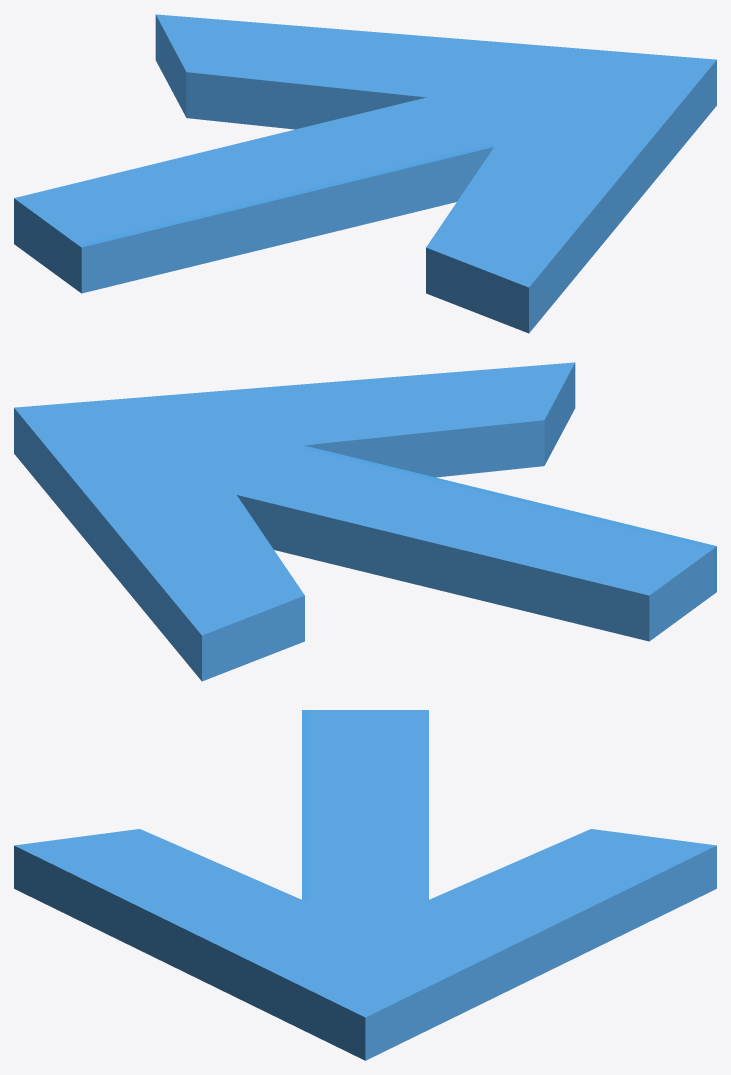
The model's file is meshGeneratorArrow.fbx.
3 views of the same model, one above another, from view 1: azimuth 30°, elevation 25°; view 2: azimuth 150°, elevation 25°; view 3: azimuth 270°, elevation 25° (orthographic). The views are drawn at different scales.
Parts seen in each view (by area): view 1: Editor_MeshGeneratorArrow; view 2: Editor_MeshGeneratorArrow; view 3: Editor_MeshGeneratorArrow.
Part boxes in pixels (x1,y1,x2,y2): Editor_MeshGeneratorArrow: (14,14,716,333); Editor_MeshGeneratorArrow: (14,362,716,681); Editor_MeshGeneratorArrow: (14,710,716,1060).
Bounding box in the file's own units: 1.08 × 1.04 × 0.0708.
1 material, 1 textured.
